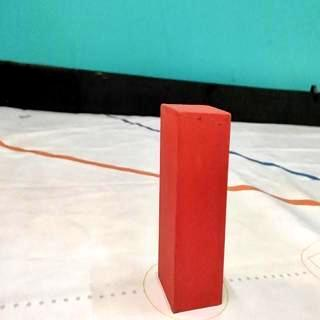redbox: (160, 106, 224, 310)
